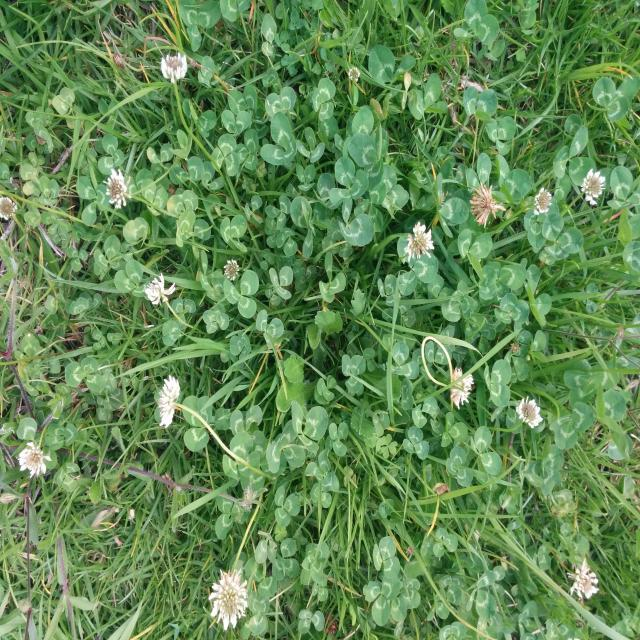Four Leaf Clover: (203, 303, 229, 334)
